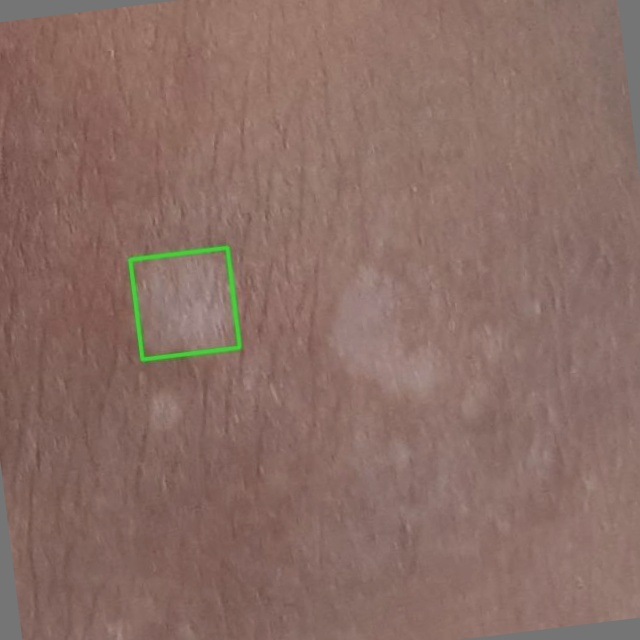Eczema: (130, 247, 239, 359)
